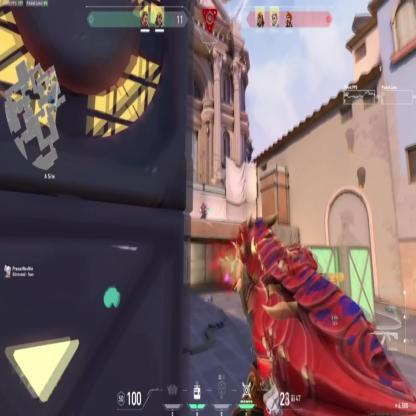enemy: (200, 200, 206, 221)
enemy_head: (202, 202, 204, 206)
